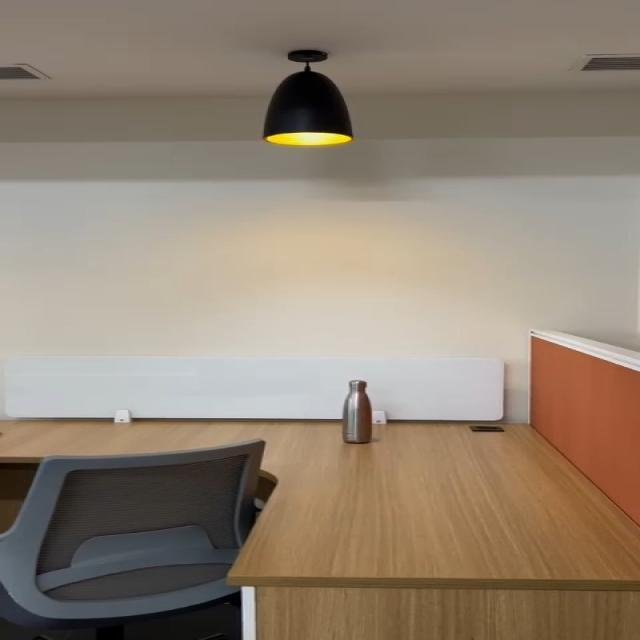furniture: (0, 430, 265, 640)
wall: (0, 5, 640, 344)
